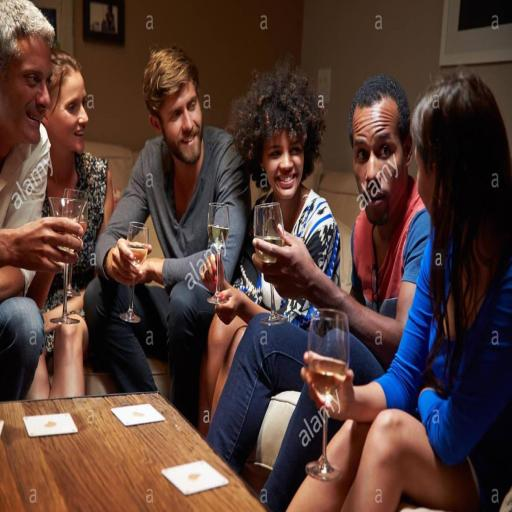person: (290, 70, 511, 511), (85, 47, 250, 424), (254, 75, 429, 383), (0, 0, 82, 401), (28, 49, 113, 398), (229, 61, 339, 283)
